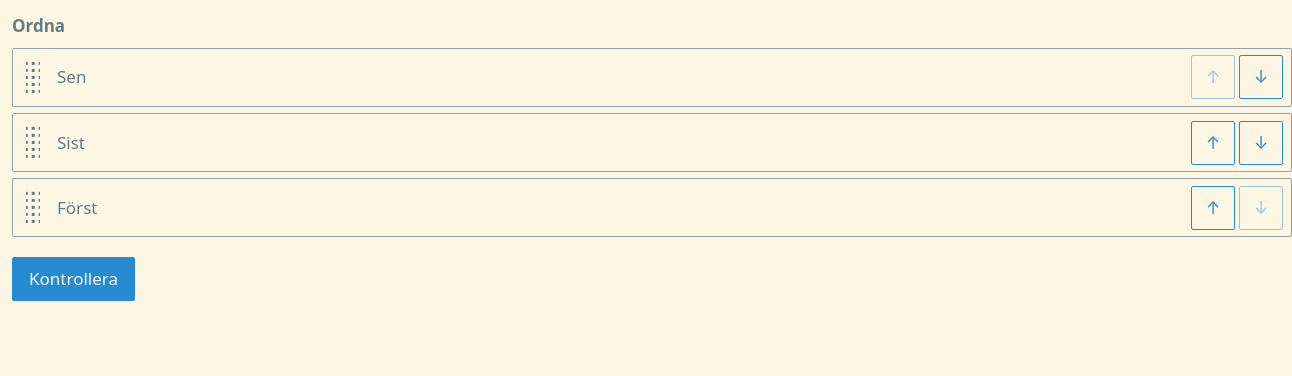
Test: Ordering by dragging › puts everything back when the browser cancels the drag, and hides the grips once solved
The image size is (1292, 376).
Press the mouse on the element with class "drag-handle" next to "Först" at {"x": 33, "y": 208}, box [17,179,49,236]
Expected: the text with class "ordering-text" reads "Först", [57,196,97,219]
Press the mouse on the element with class "drag-handle" next to "Först" at {"x": 33, "y": 208}, box [17,179,49,236]
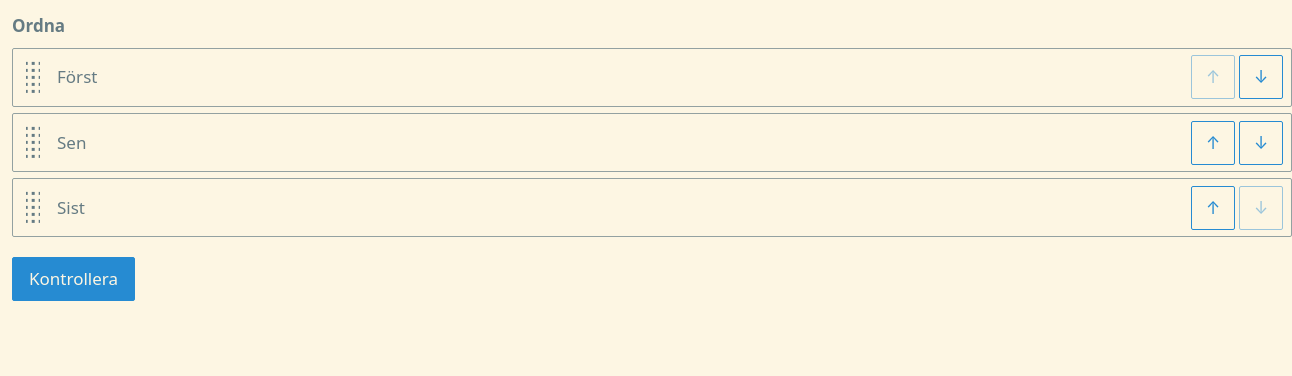
Press the mouse on the element with class "drag-handle" next to "Sen" at {"x": 33, "y": 143}, box [17,114,49,171]
Press the mouse on the element with class "drag-handle" next to "Sist" at {"x": 33, "y": 208}, box [17,179,49,236]
Click the button "Kontrollera".
click(74, 279)  # box [12,257,135,301]
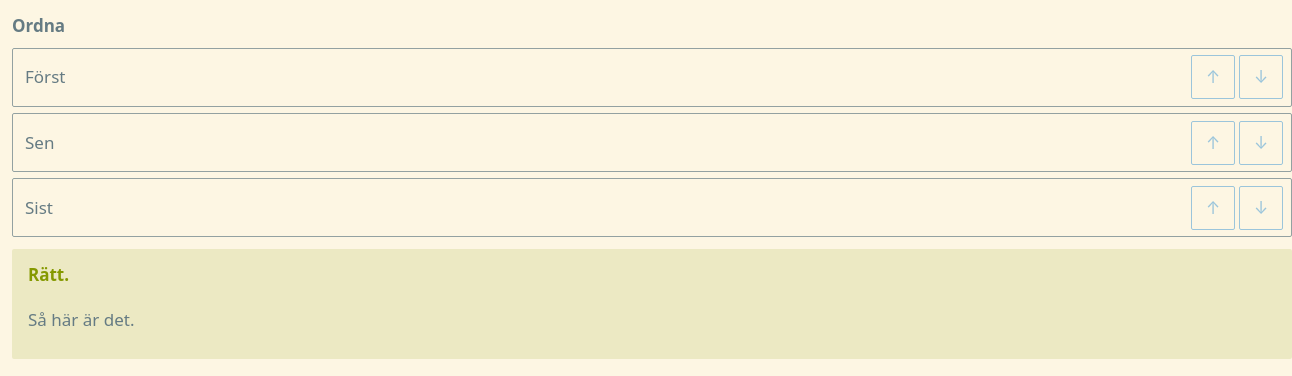
Now the text "Rätt." is shown, box [28,263,69,286]
Now the element with class "drag-handle" is gone
